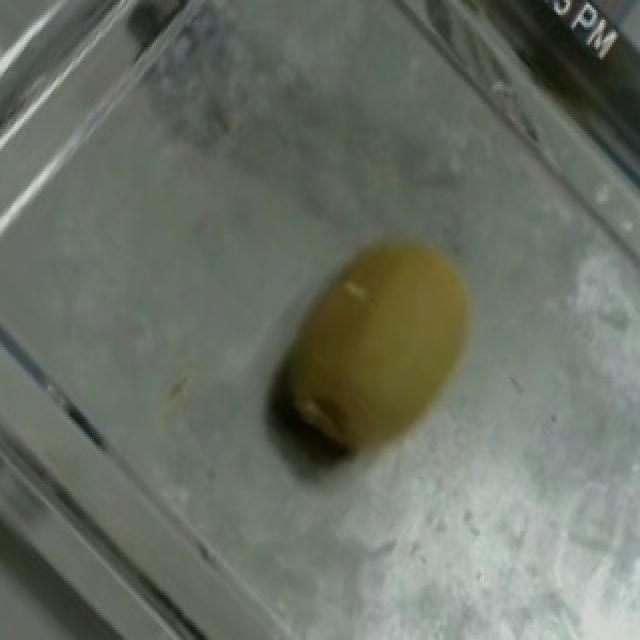Fruit: (234, 198, 518, 484)
